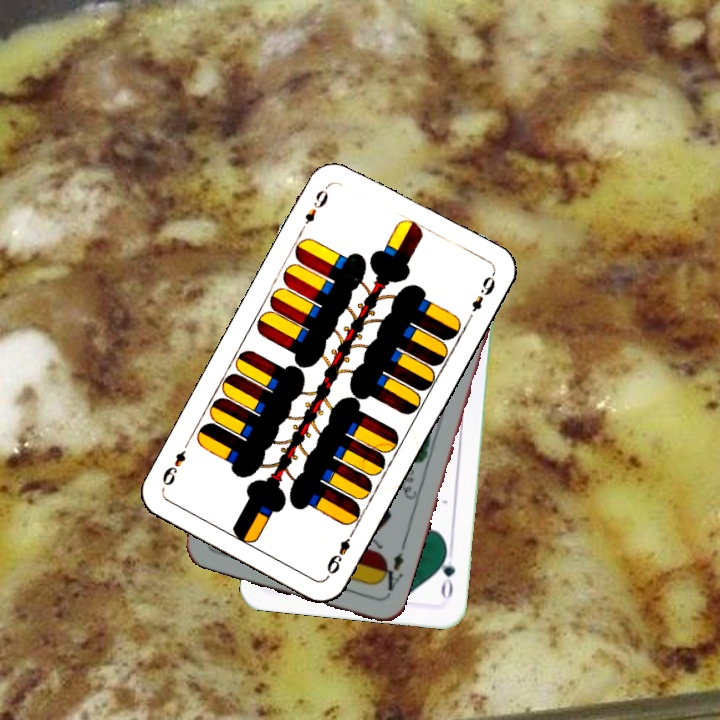E9: (322, 525, 358, 577), (300, 181, 332, 227)
EA: (374, 548, 406, 599)
GO: (435, 544, 458, 601)
